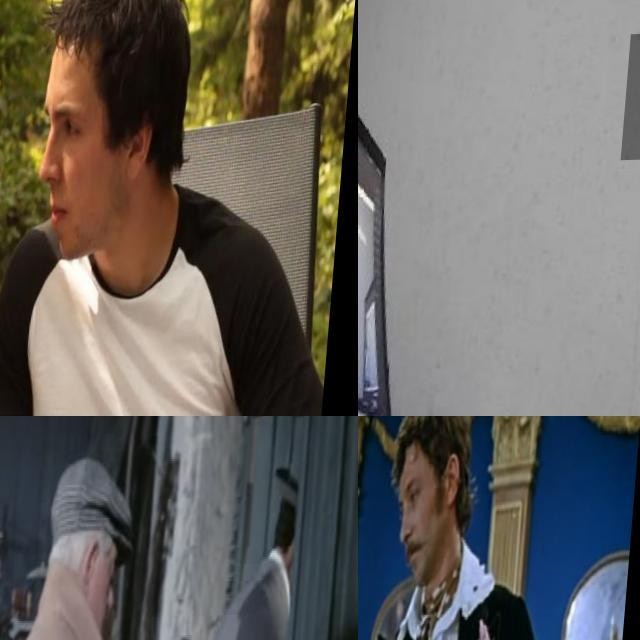-: (0, 310, 44, 416)
